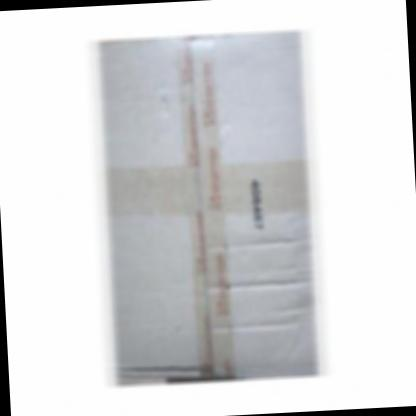box: (101, 31, 319, 382)
